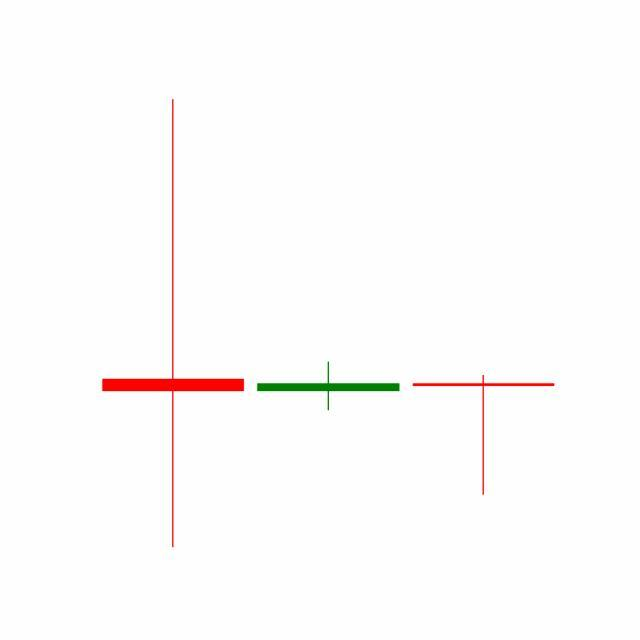Dragonfly Doji: (406, 375, 562, 498)
